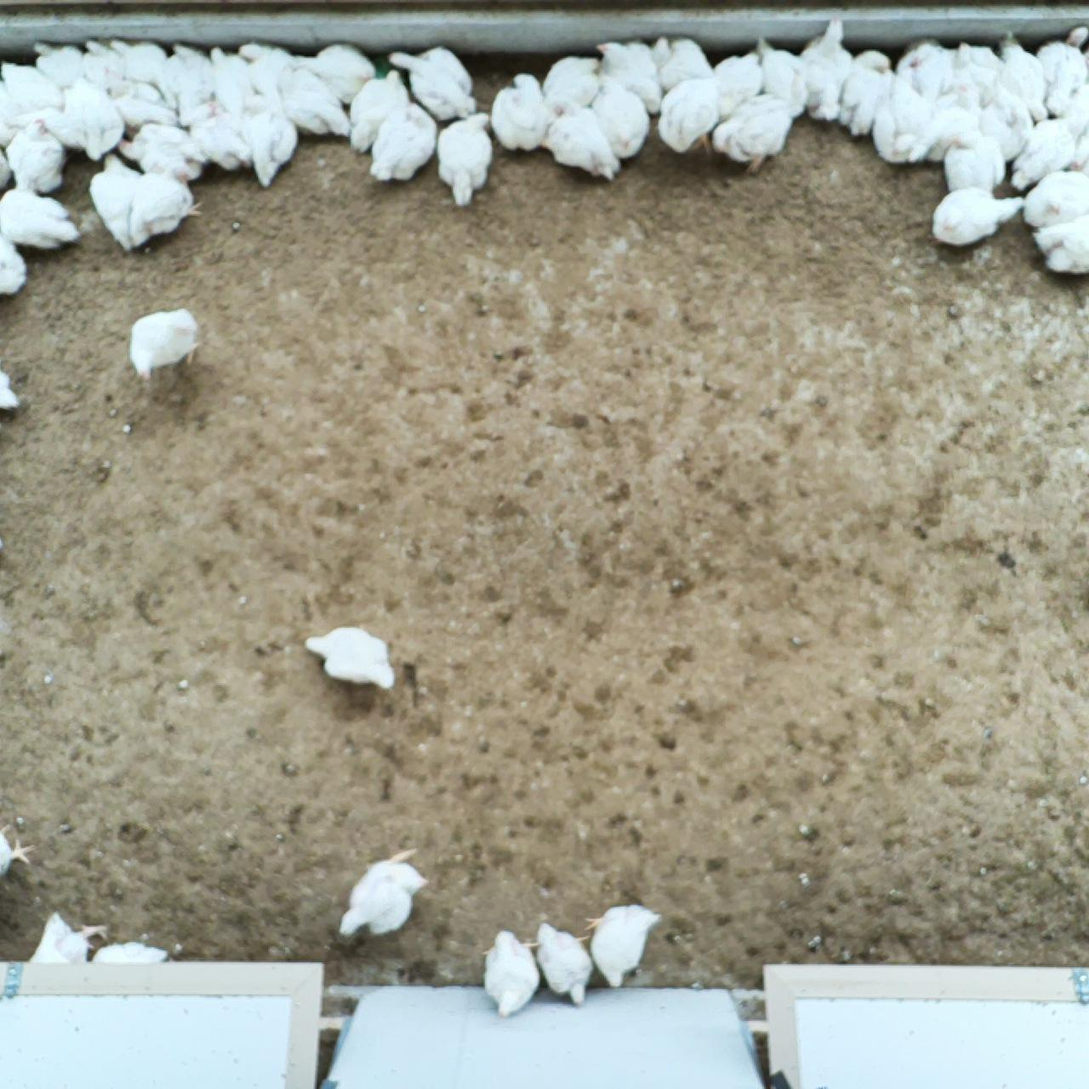chicken: (336, 844, 425, 938), (710, 94, 802, 174), (584, 902, 665, 989), (388, 47, 479, 118), (130, 161, 206, 246), (800, 16, 856, 121), (482, 927, 540, 1021), (932, 189, 1023, 248), (308, 627, 397, 687), (89, 152, 143, 249), (369, 104, 436, 182), (246, 100, 304, 189), (277, 67, 348, 139), (437, 113, 491, 207), (58, 83, 126, 157), (130, 309, 199, 381), (547, 112, 620, 180), (289, 42, 378, 97), (349, 70, 409, 150), (0, 190, 82, 248), (1010, 117, 1076, 189), (657, 77, 717, 155), (904, 112, 988, 167), (596, 41, 659, 114), (119, 124, 199, 181), (535, 920, 589, 1004), (840, 49, 894, 131), (9, 117, 66, 193), (1001, 38, 1051, 122), (755, 37, 807, 117), (493, 73, 546, 149), (191, 103, 252, 169), (33, 911, 111, 962), (1025, 171, 1089, 231), (597, 78, 646, 155), (1044, 38, 1089, 115), (873, 99, 922, 168), (897, 41, 952, 100), (711, 52, 760, 118), (1, 61, 65, 111), (543, 57, 600, 112), (953, 40, 1006, 96), (655, 36, 713, 87), (1036, 221, 1089, 276), (206, 45, 251, 108), (119, 82, 180, 127), (110, 37, 168, 81), (164, 41, 212, 94), (30, 40, 85, 85), (241, 43, 291, 90), (81, 37, 125, 90), (91, 939, 171, 964), (0, 239, 27, 297), (0, 834, 38, 875), (0, 364, 18, 411)
